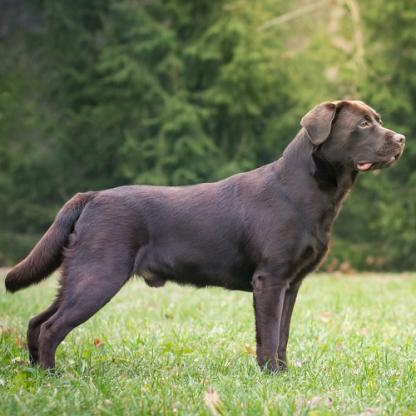dog: (5, 103, 405, 375)
